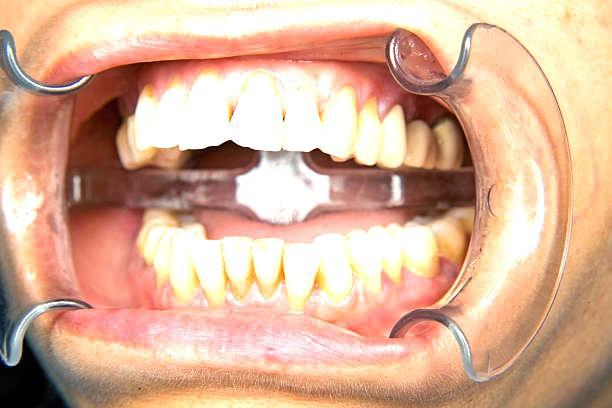Calculus: (420, 204, 472, 262), (190, 242, 232, 304), (222, 229, 260, 297), (279, 242, 319, 302), (251, 234, 286, 290)
